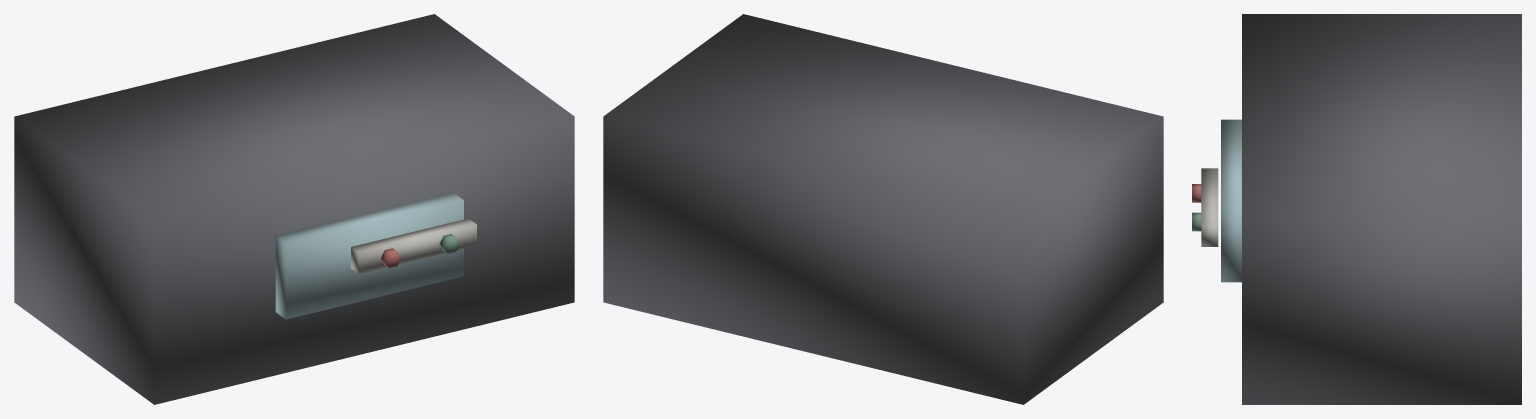
File: cassette_deck.glb
3 renders of one model, left to right at view 1: azimuth 30°, elevation 25°; view 2: azimuth 150°, elevation 25°; view 3: azimuth 270°, elevation 25°, orthographic.
Parts seen in each view (by area): view 1: world; view 2: world; view 3: world.
Part boxes in pixels (left/top/right/bottom): world: left=14, top=14, right=574, bottom=404; world: left=603, top=14, right=1163, bottom=404; world: left=1192, top=14, right=1521, bottom=404.
Bounding box in the file's own units: 0.52 × 0.22 × 0.3535.
